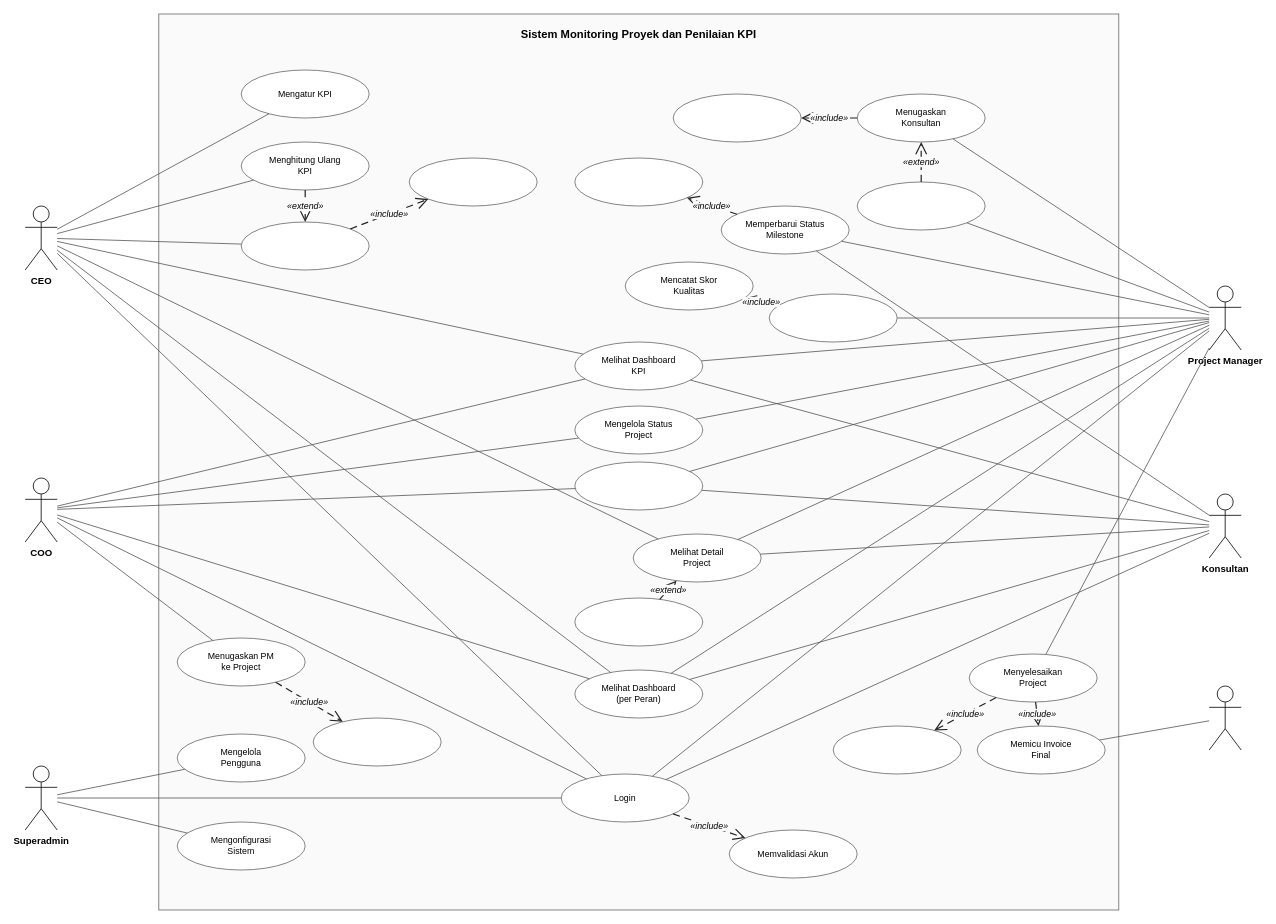
This 1276x924 diagram has some shape labels left out. The centre of each missing label's shape, as x and y in pixels:
Melihat Daftar Project: pixel 638 485
Melihat Riwayat Lifecycle: pixel 638 621
Membuat Project dari Handover: pixel 376 741
Memeriksa Status Pembayaran DP: pixel 736 117
Memfinalisasi KPI Periode: pixel 304 245
Memvalidasi Semua Milestone Selesai: pixel 896 749
Mencatat Kepatuhan Pembaruan: pixel 638 181
Menghitung KPI (WSM): pixel 472 181
Menilai Kualitas Milestone: pixel 832 317
Menyunting Roster Konsultan: pixel 920 205
Modul Invoice (scope terpisah): pixel 1224 717
